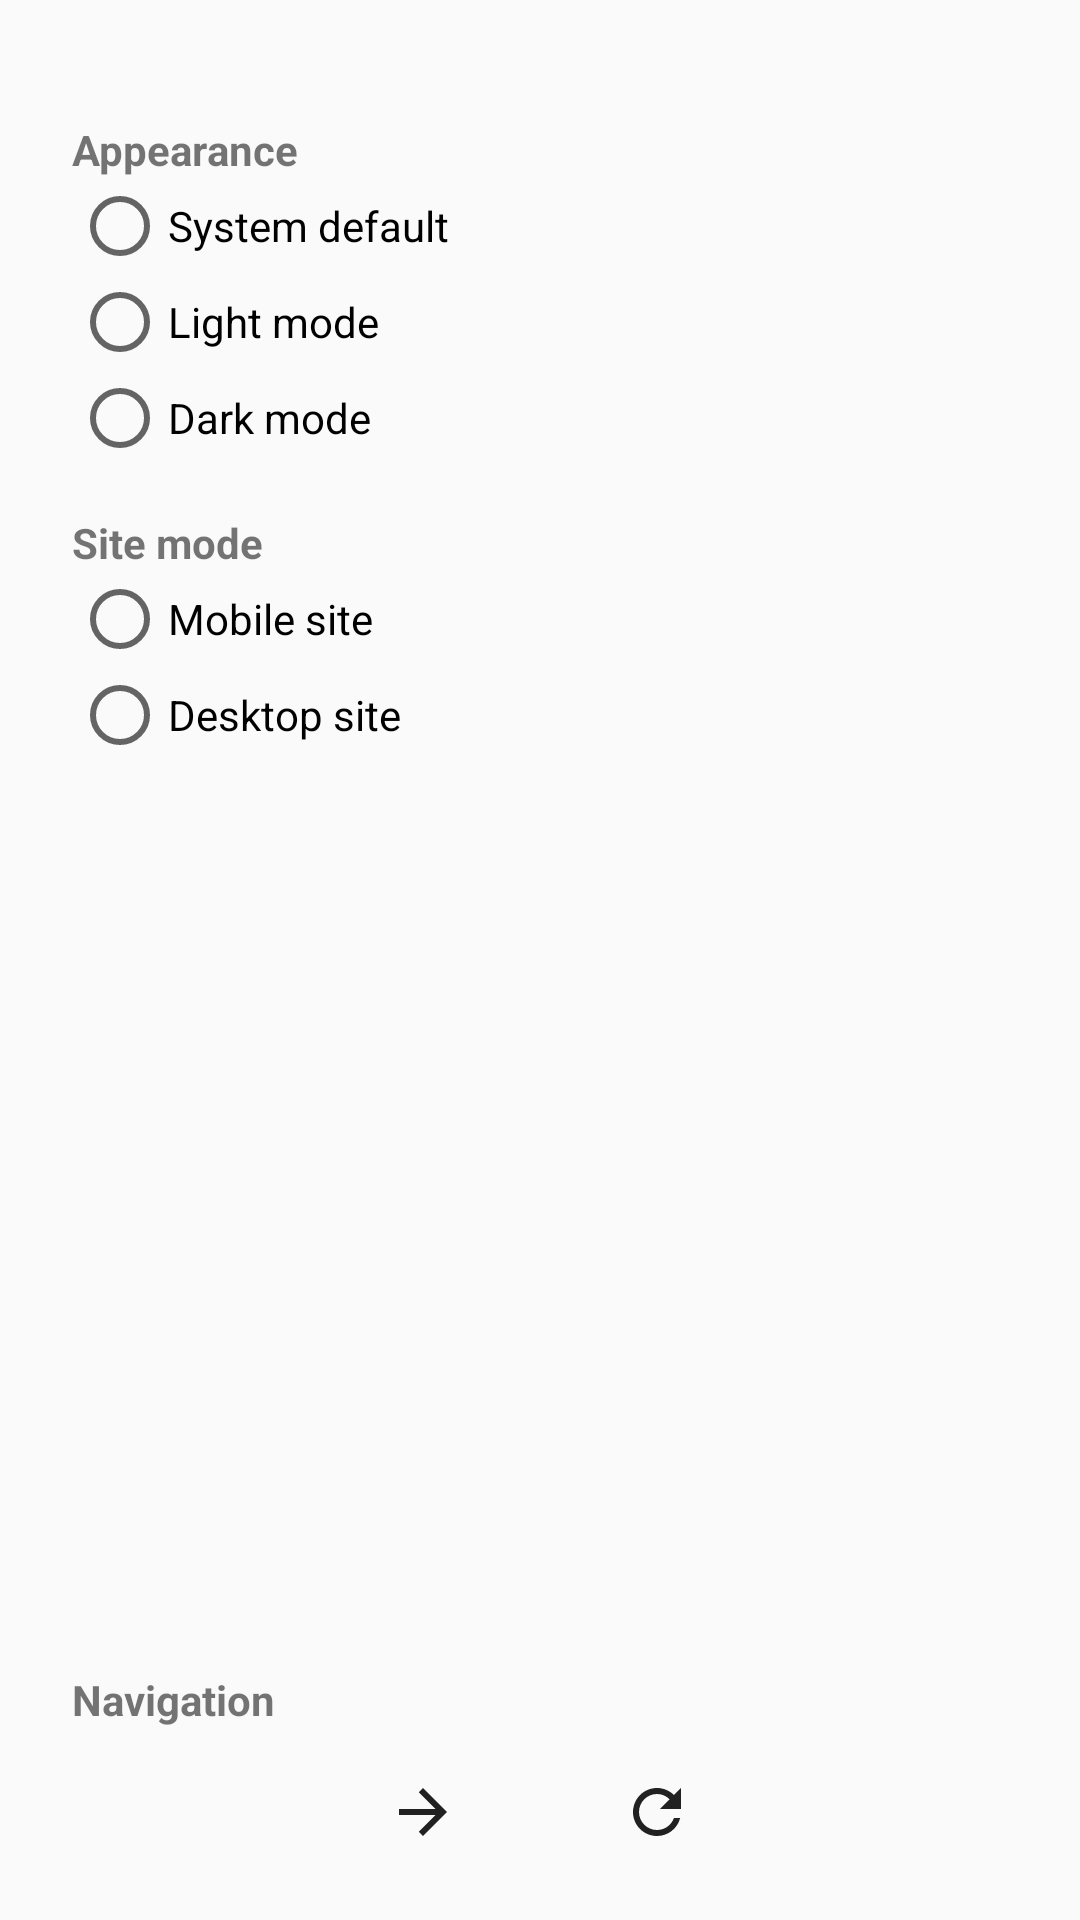

Where to tap for icons on this 1080x1920 app screen, as (x,y):
Forward: (423,1812)
Refresh: (657,1812)
